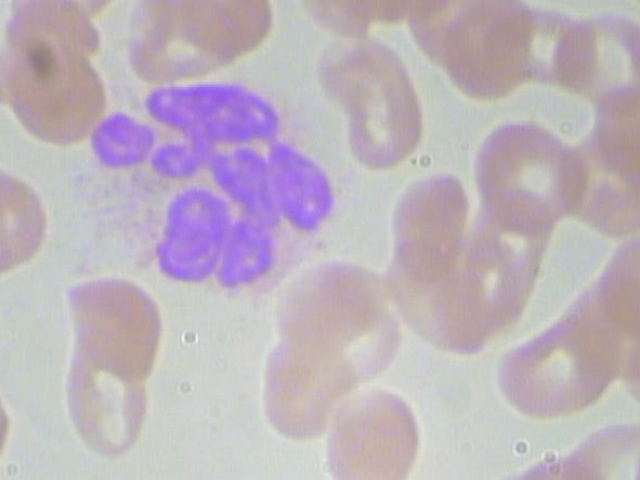RBC: (315, 29, 428, 172), (252, 327, 359, 453), (493, 309, 611, 422), (476, 117, 585, 236), (0, 34, 108, 148), (268, 247, 384, 348), (60, 273, 163, 380), (58, 350, 161, 457), (384, 164, 474, 284), (322, 383, 429, 480), (120, 0, 239, 86), (440, 0, 540, 99), (452, 225, 537, 329), (553, 6, 640, 107), (563, 125, 640, 238), (0, 163, 50, 278)
WBC: (49, 72, 361, 292)
